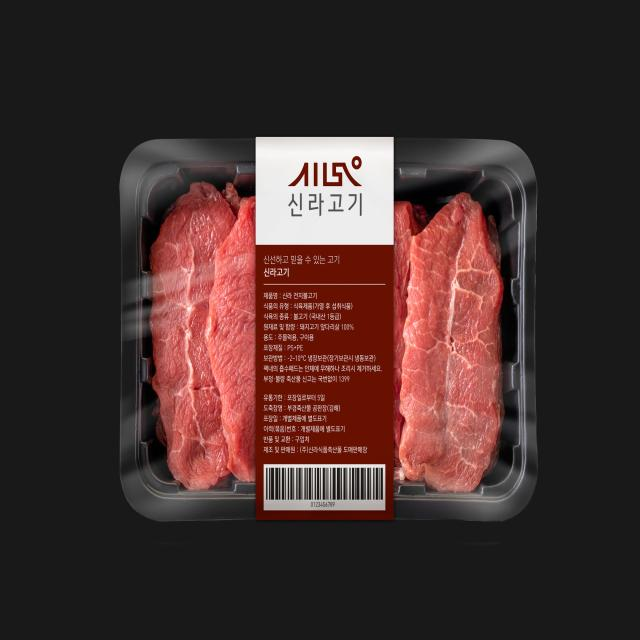pork: (92, 120, 548, 541)
